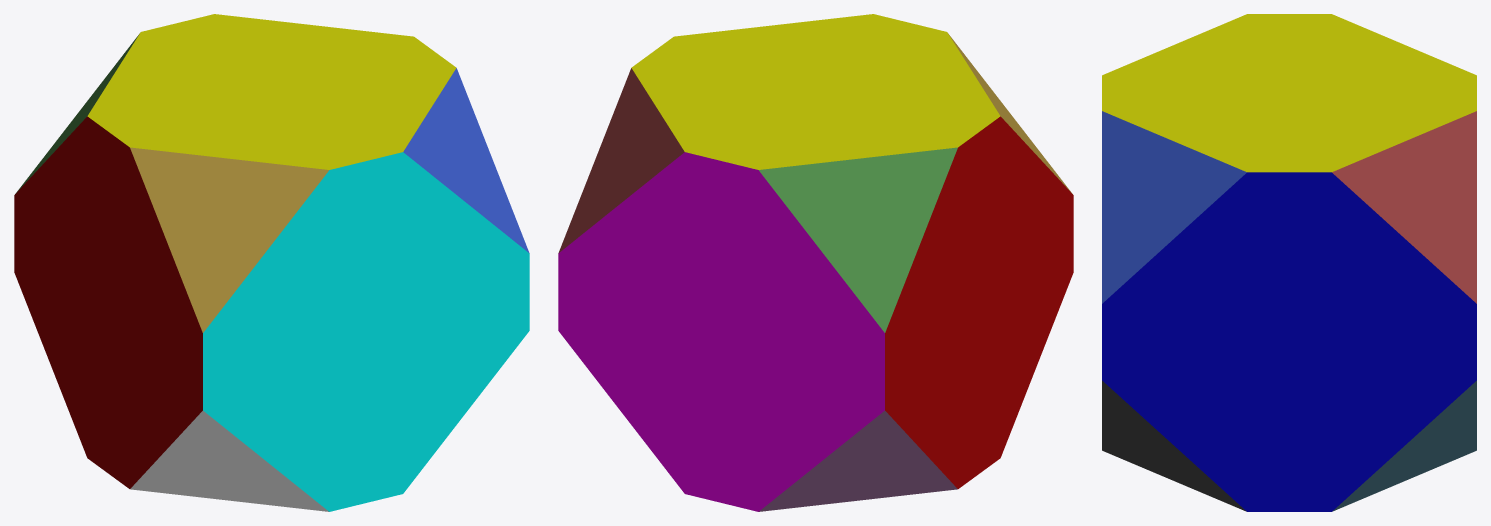
File: Cube14Mats.FBX
The picture shows the model from 3 angles, left to right: view 1: azimuth 30°, elevation 25°; view 2: azimuth 150°, elevation 25°; view 3: azimuth 270°, elevation 25°; orthographic projection.
Visible parts, largest first — view 1: Cube14Mats; view 2: Cube14Mats; view 3: Cube14Mats.
Part boxes in pixels (box(x1,y1,x2,y2)): Cube14Mats: box(14, 14, 529, 511); Cube14Mats: box(558, 14, 1073, 511); Cube14Mats: box(1102, 14, 1476, 511).
Bounding box in the file's own units: 0.5 × 0.5 × 0.5.
